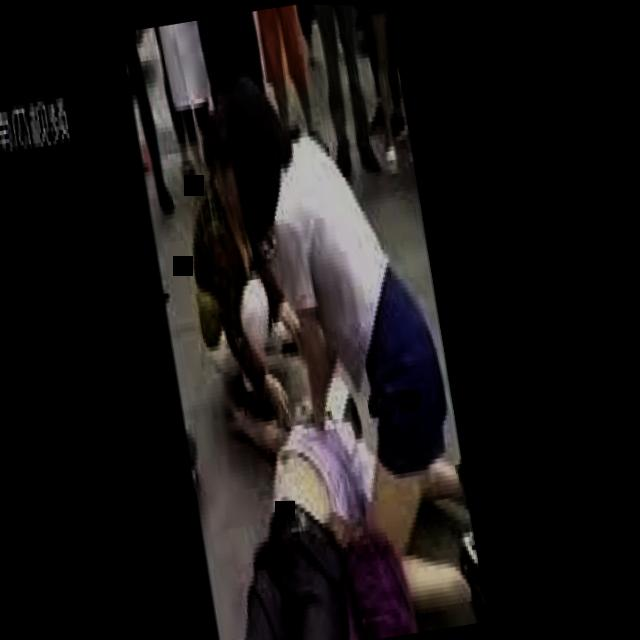Fall-Detected: (150, 343, 400, 640)
